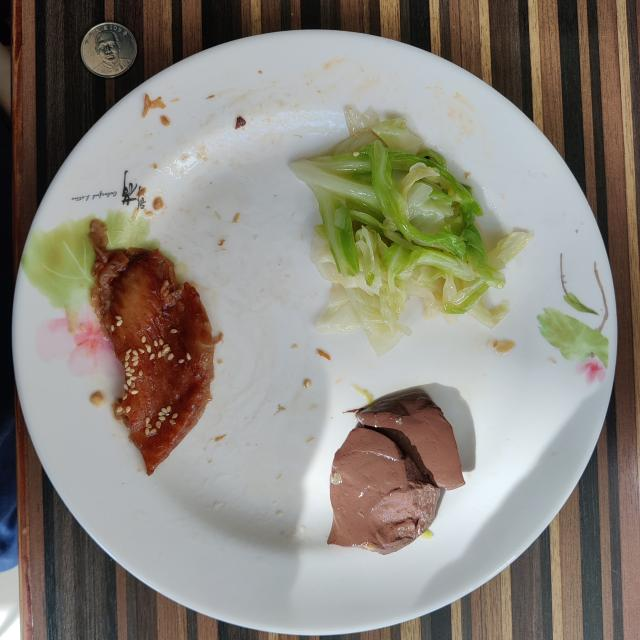Kabayaki sea bream fillet: (89, 220, 219, 475)
cabbage: (290, 106, 532, 355)
coin: (81, 22, 138, 78)
pig blood curd: (328, 390, 464, 554)
